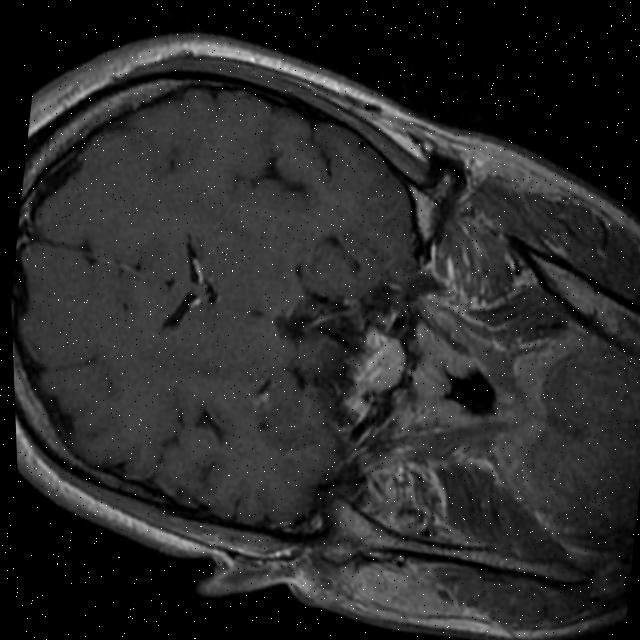Pituitary: (335, 317, 412, 401)
